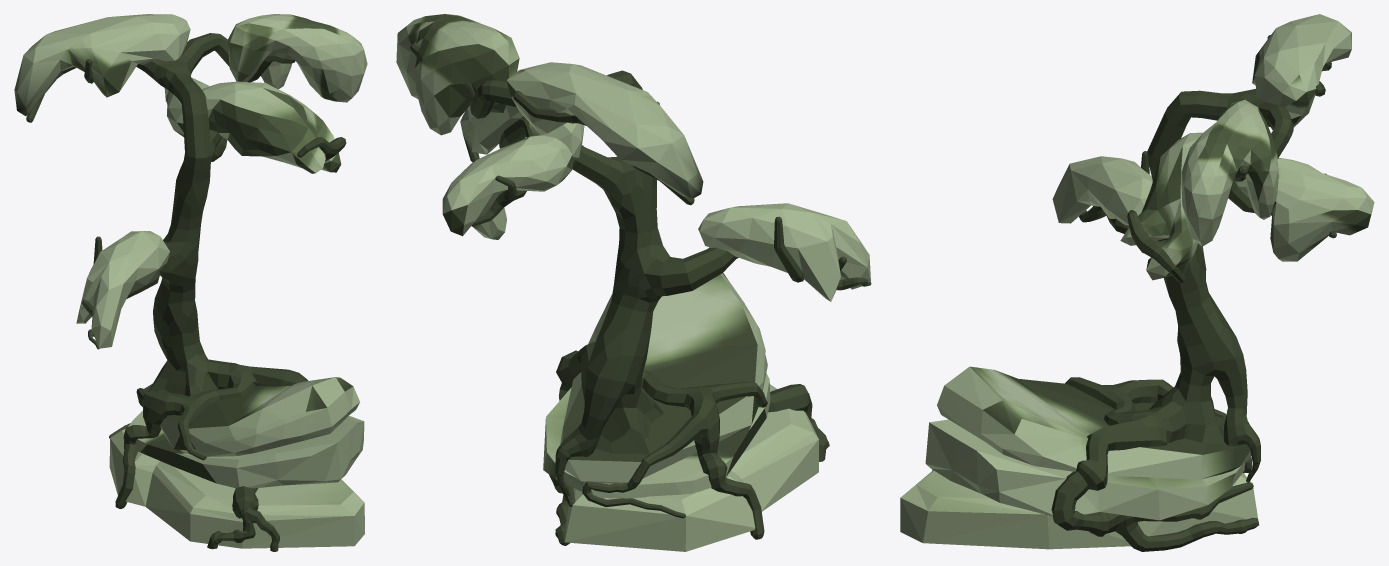
File: EA_Swamp_tree6.glb
The picture shows the model from 3 angles, left to right: view 1: azimuth 30°, elevation 25°; view 2: azimuth 150°, elevation 25°; view 3: azimuth 270°, elevation 25°; orthographic projection. The views are drawn at different scales.
Parts seen in each view (by area): view 1: EA_Swamp_tree6; view 2: EA_Swamp_tree6; view 3: EA_Swamp_tree6.
Part boxes in pixels (x1,y1,x2,y2): EA_Swamp_tree6: [14, 14, 367, 551]; EA_Swamp_tree6: [396, 14, 871, 551]; EA_Swamp_tree6: [900, 14, 1374, 551].
Size of the model in its own units: 7.87 by 9.44 by 8.57.
Materials: 1 (1 with a texture image).
